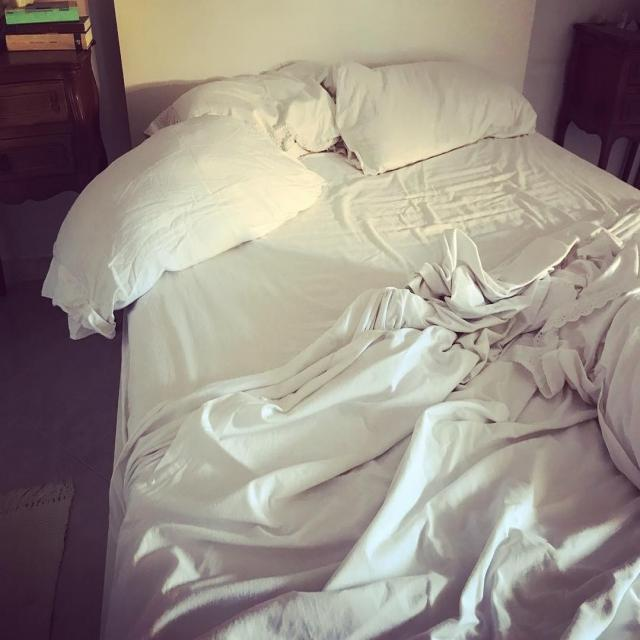bed: (60, 64, 640, 640)
